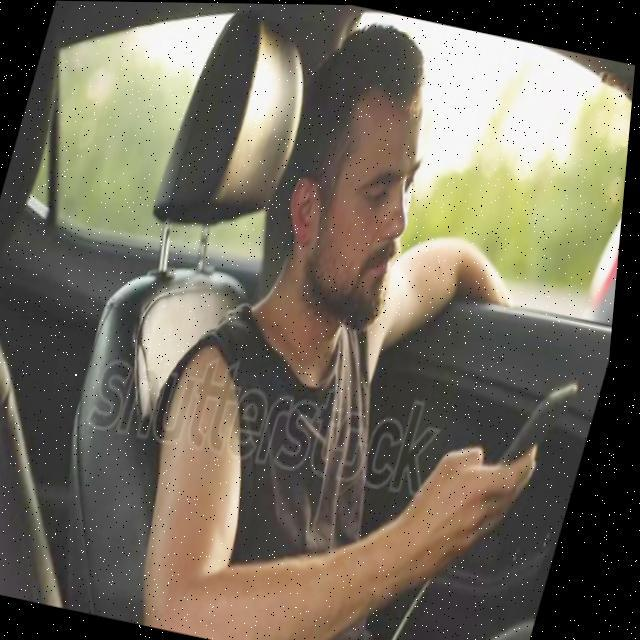PhoneCall: (496, 366, 587, 509)
